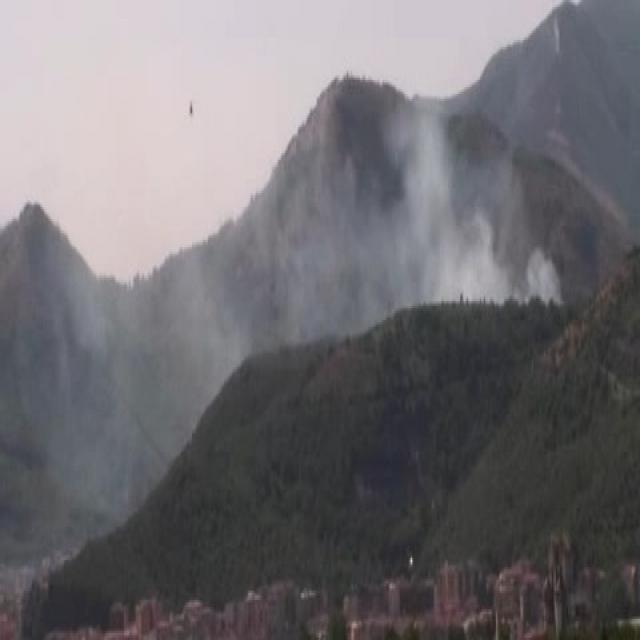smoke: (334, 93, 556, 305)
